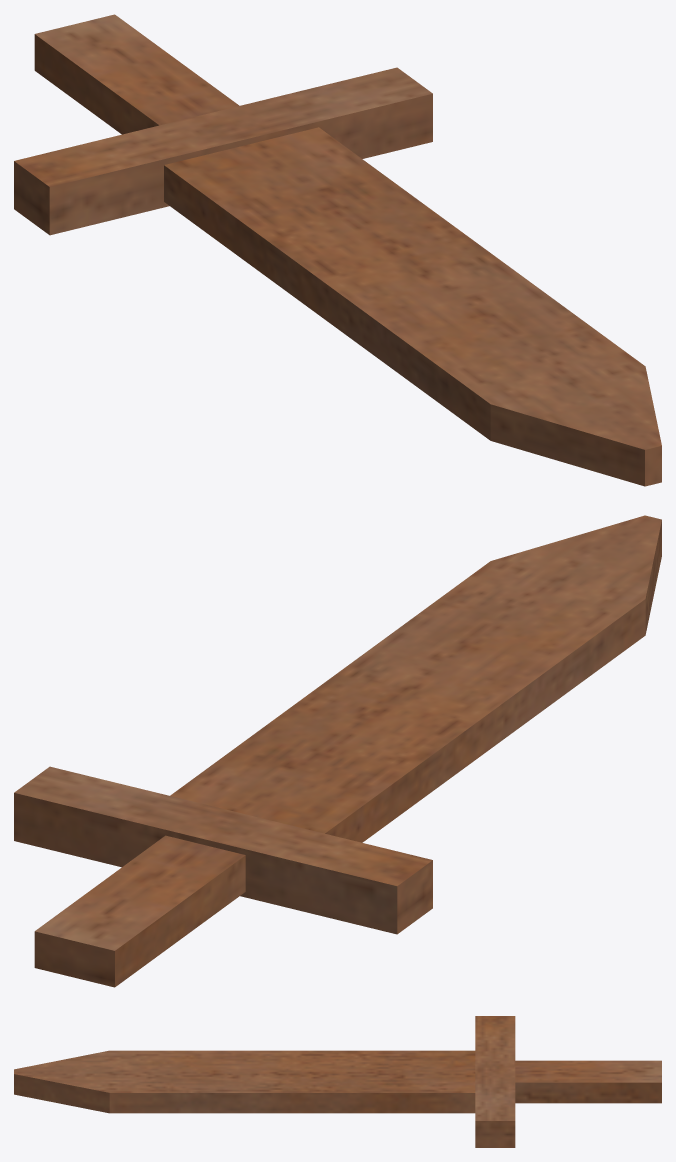
The model's file is Toy_WoodSword.fbx.
3 views of the same model, one above another, from view 1: azimuth 30°, elevation 25°; view 2: azimuth 150°, elevation 25°; view 3: azimuth 270°, elevation 25° (orthographic). The views are drawn at different scales.
Parts seen in each view (by area): view 1: Toy_WoodSword; view 2: Toy_WoodSword; view 3: Toy_WoodSword.
Part boxes in pixels (bbox=[...]): Toy_WoodSword: bbox=[14, 14, 661, 486]; Toy_WoodSword: bbox=[14, 515, 661, 987]; Toy_WoodSword: bbox=[14, 1016, 661, 1147].
Size of the model in its own units: 85.44 by 10.28 by 223.
